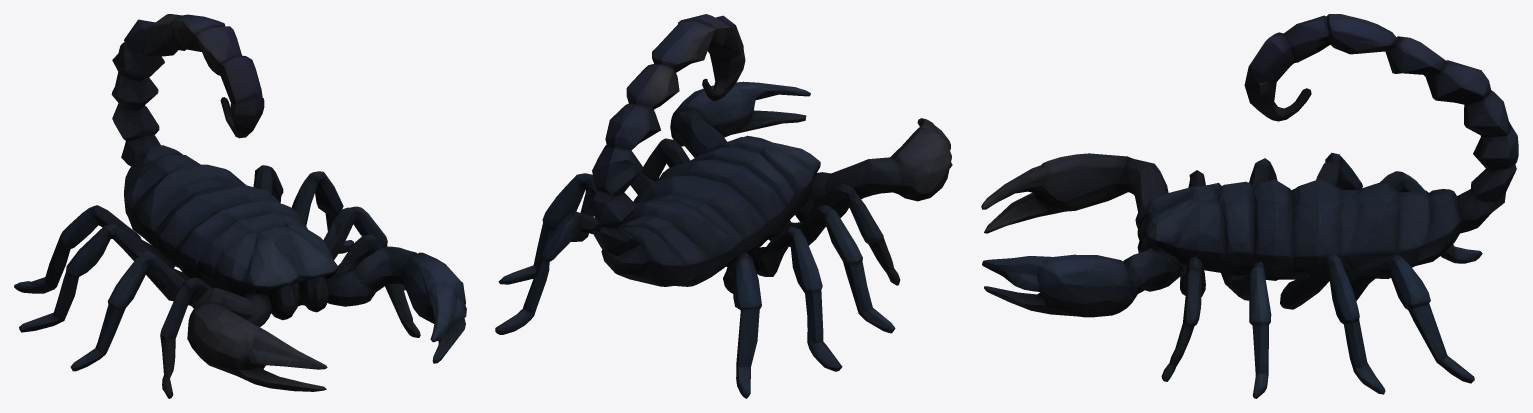
File: scorpion.glb
3 views of the same model, side by side, from view 1: azimuth 30°, elevation 25°; view 2: azimuth 150°, elevation 25°; view 3: azimuth 270°, elevation 25° (orthographic). The views are drawn at different scales.
Visible parts, largest first — view 1: world; view 2: world; view 3: world.
Part boxes in pixels (x1,y1,x2,y2): world: (14, 14, 466, 398); world: (495, 14, 952, 398); world: (981, 14, 1518, 398).
Size of the model in its own units: 0.7639 by 0.6159 by 0.9967.
Materials: 1 (1 with a texture image).
